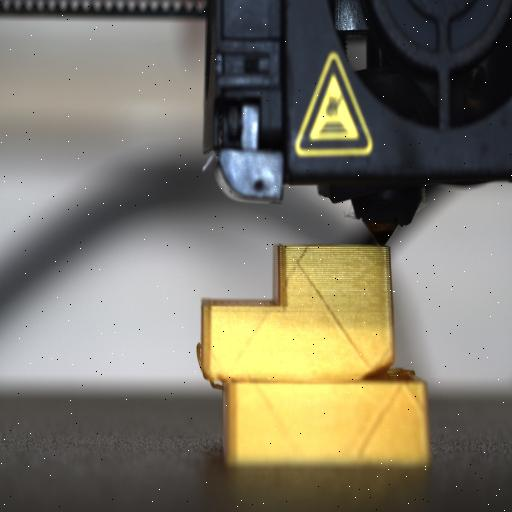layer_shift: (200, 362, 430, 392)
